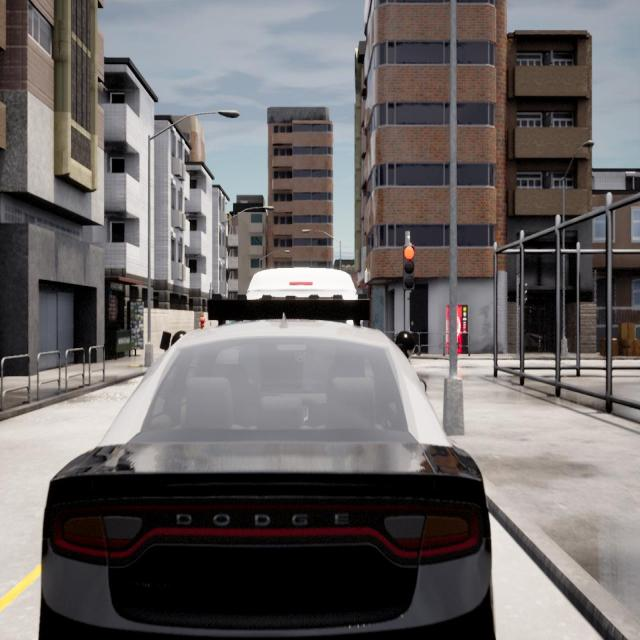Pedestrian: (200, 313, 204, 329)
Vehicle: (39, 319, 493, 637), (246, 267, 358, 301)
traffic_light: (404, 246, 414, 290), (523, 282, 528, 304)
